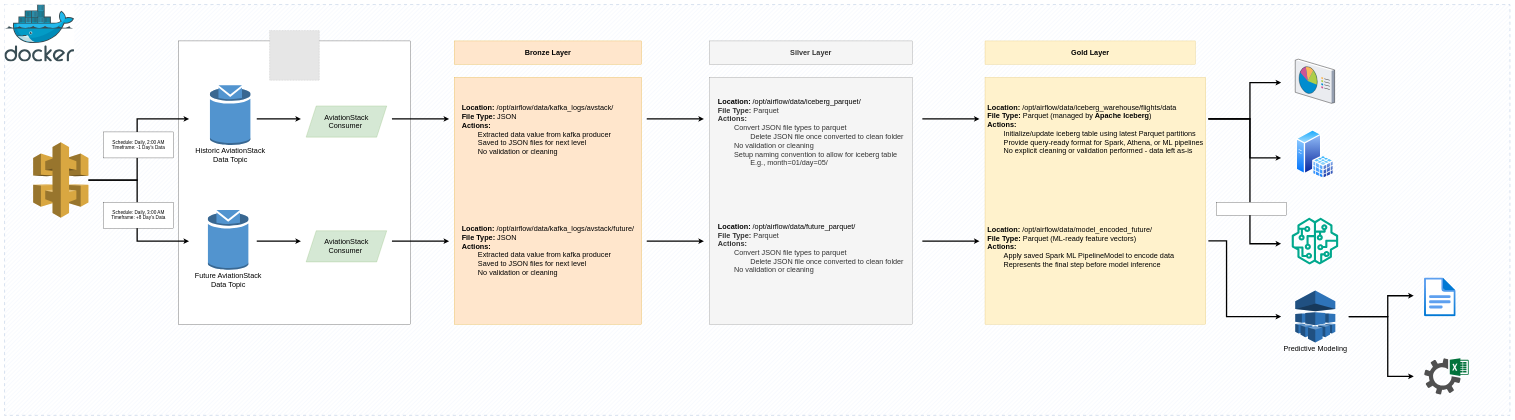
Some shapes in this 1515 by 420 pixel diagram are drawn without their labels. Grey dashed boxes stand in for pictures. The centre of each missing label's shape, as x and y in pixels:
"Ad-hoc SQL Queries" belongs at (1315,154).
"AviationStack REST API" belongs at (60,180).
"BI & Reporting" belongs at (1315,81).
"Delay Prediction Storage" belongs at (1440,296).
"Excel Conversion for Analysts" belongs at (1446,376).
"Model Retraining" belongs at (1314,241).
"Schedule: Sunday, 5:00 AM" belongs at (1251,208).
